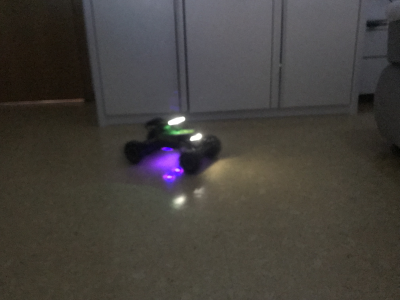remote control car: (122, 115, 223, 175)
